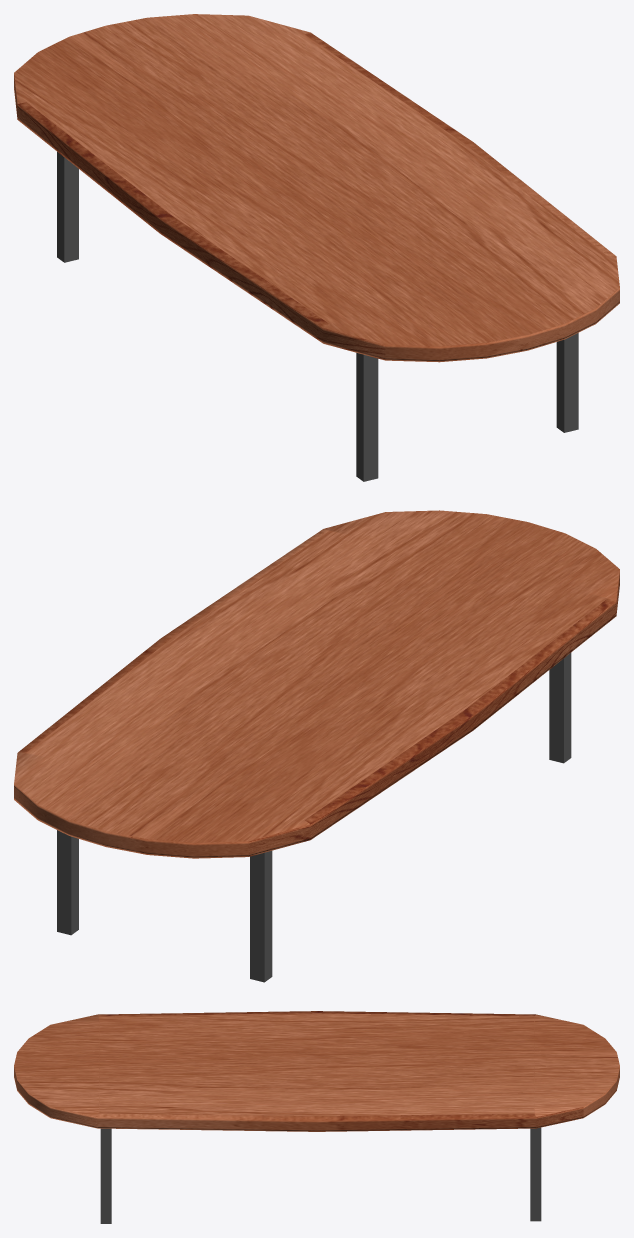
The model's file is pill_shaped_table.fbx.
3 renders of one model, top to bottom at view 1: azimuth 30°, elevation 25°; view 2: azimuth 150°, elevation 25°; view 3: azimuth 270°, elevation 25°, orthographic. The views are drawn at different scales.
Parts seen in each view (by area): view 1: pCube1, pCube4, pCube3, pCube5; view 2: pCube1, pCube3, pCube4, pCube2; view 3: pCube1, pCube5, pCube2.
Boxes of the visible parts, x1=… form: pCube1: x1=14, y1=14, x2=619, y2=362; pCube4: x1=356, y1=353, x2=378, y2=481; pCube3: x1=57, y1=152, x2=78, y2=262; pCube5: x1=556, y1=333, x2=578, y2=432; pCube1: x1=14, y1=510, x2=619, y2=858; pCube3: x1=250, y1=851, x2=272, y2=982; pCube4: x1=549, y1=653, x2=571, y2=763; pCube2: x1=57, y1=830, x2=78, y2=935; pCube1: x1=14, y1=1011, x2=619, y2=1131; pCube5: x1=100, y1=1128, x2=111, y2=1223; pCube2: x1=530, y1=1127, x2=541, y2=1221.
Size of the model in its own units: 1 by 0.5138 by 2.34.
Materials: 2 (1 with a texture image).
